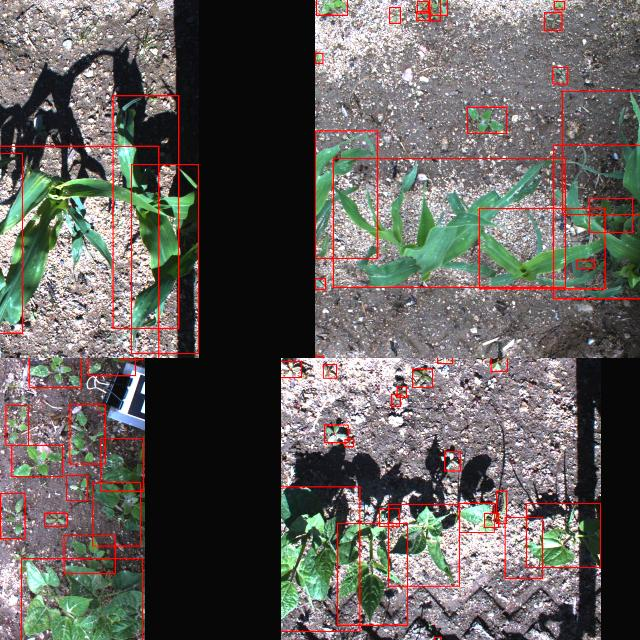crop: (0, 145, 158, 358), (332, 158, 566, 286), (112, 95, 178, 328), (553, 144, 640, 298), (130, 164, 198, 352), (281, 485, 359, 630), (479, 208, 605, 288), (20, 558, 141, 640), (561, 90, 640, 213), (314, 130, 378, 258), (337, 523, 407, 625), (388, 503, 458, 585), (526, 503, 600, 567), (458, 502, 494, 532), (314, 278, 324, 288)
weed: (92, 481, 140, 545), (504, 516, 542, 578), (100, 438, 144, 490), (70, 403, 104, 463), (64, 535, 114, 573), (12, 444, 62, 476), (29, 358, 81, 387), (590, 198, 632, 232), (0, 492, 24, 537), (466, 106, 506, 132), (6, 405, 28, 445), (87, 358, 135, 375), (66, 474, 88, 500), (315, 0, 346, 15), (323, 424, 347, 442), (412, 368, 432, 386), (379, 508, 399, 526), (496, 491, 506, 524), (544, 12, 562, 30), (444, 450, 460, 470), (44, 512, 66, 526), (281, 361, 300, 377), (552, 66, 568, 84), (429, 0, 447, 14), (490, 358, 507, 371), (428, 0, 439, 20), (484, 512, 498, 526), (322, 363, 336, 377), (388, 7, 399, 23), (576, 260, 594, 268), (416, 10, 430, 20), (417, 1, 428, 12), (390, 394, 400, 406), (554, 0, 564, 10), (396, 386, 406, 396), (314, 53, 322, 63), (436, 358, 451, 363), (343, 438, 352, 446), (433, 636, 440, 640), (314, 355, 321, 358)
